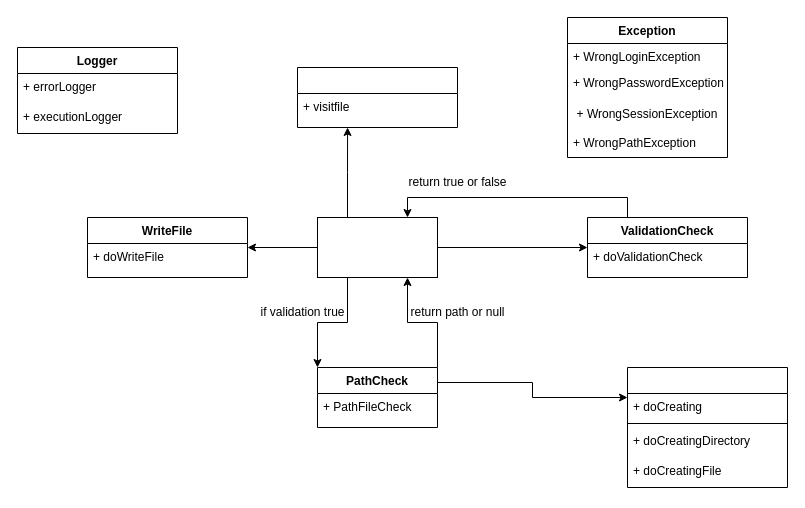
The diagram is 805 pixels wide and 508 high, and some of its shapes have lost their labels. The shapes that lost their labels are listed below. From the top down, each one's box as (x1, y1, x2, y2) in pixels, then its label:
(296, 66, 458, 128): CreateStatistics
(316, 216, 438, 278): Runner
(626, 366, 788, 488): CreatingDirectoryFile
